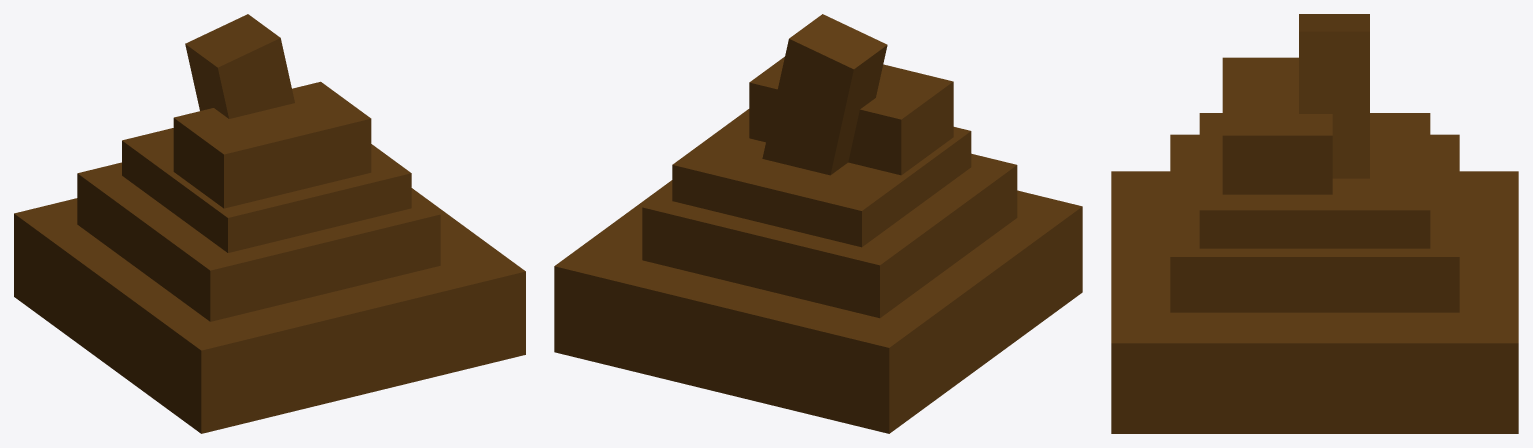
The model's file is Perreteeee_Kaka.fbx.
The picture shows the model from 3 angles, left to right: view 1: azimuth 30°, elevation 25°; view 2: azimuth 150°, elevation 25°; view 3: azimuth 270°, elevation 25°; orthographic projection. The views are drawn at different scales.
Parts seen in each view (by area): view 1: Cube.001, Cube.002, Cube.005, Cube.004, Cube.006; view 2: Cube.001, Cube.002, Cube.004, Cube.006, Cube.005; view 3: Cube.001, Cube.002, Cube.004, Cube.005, Cube.006.
Part boxes in pixels (x1=…): Cube.001: x1=14, y1=188, x2=525, y2=433; Cube.002: x1=77, y1=162, x2=440, y2=321; Cube.005: x1=173, y1=81, x2=371, y2=208; Cube.004: x1=122, y1=128, x2=411, y2=252; Cube.006: x1=185, y1=14, x2=294, y2=118; Cube.001: x1=554, y1=180, x2=1082, y2=433; Cube.002: x1=642, y1=153, x2=1017, y2=318; Cube.004: x1=672, y1=109, x2=971, y2=247; Cube.006: x1=762, y1=14, x2=887, y2=175; Cube.005: x1=749, y1=56, x2=953, y2=175; Cube.001: x1=1111, y1=171, x2=1518, y2=433; Cube.002: x1=1170, y1=134, x2=1459, y2=312; Cube.004: x1=1199, y1=113, x2=1430, y2=248; Cube.005: x1=1222, y1=57, x2=1332, y2=194; Cube.006: x1=1299, y1=14, x2=1369, y2=178.
Bounding box in the file's own units: 200 × 172 × 200.
